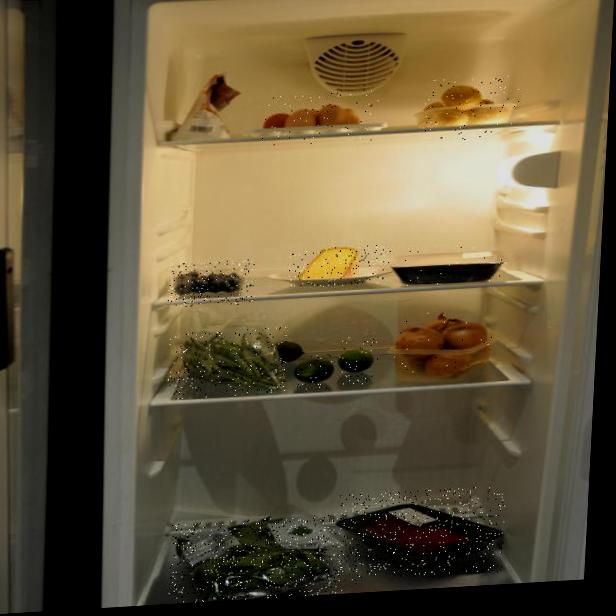cheese: (288, 244, 385, 289)
eggs: (259, 90, 381, 147)
green beans: (167, 326, 288, 400)
lime: (338, 335, 379, 386), (295, 354, 333, 390)
meat: (336, 485, 506, 581), (384, 242, 513, 289)
olive: (167, 258, 255, 309)
onion: (392, 309, 494, 375)
potatoes: (422, 73, 522, 142)
spinach: (168, 514, 349, 604)
